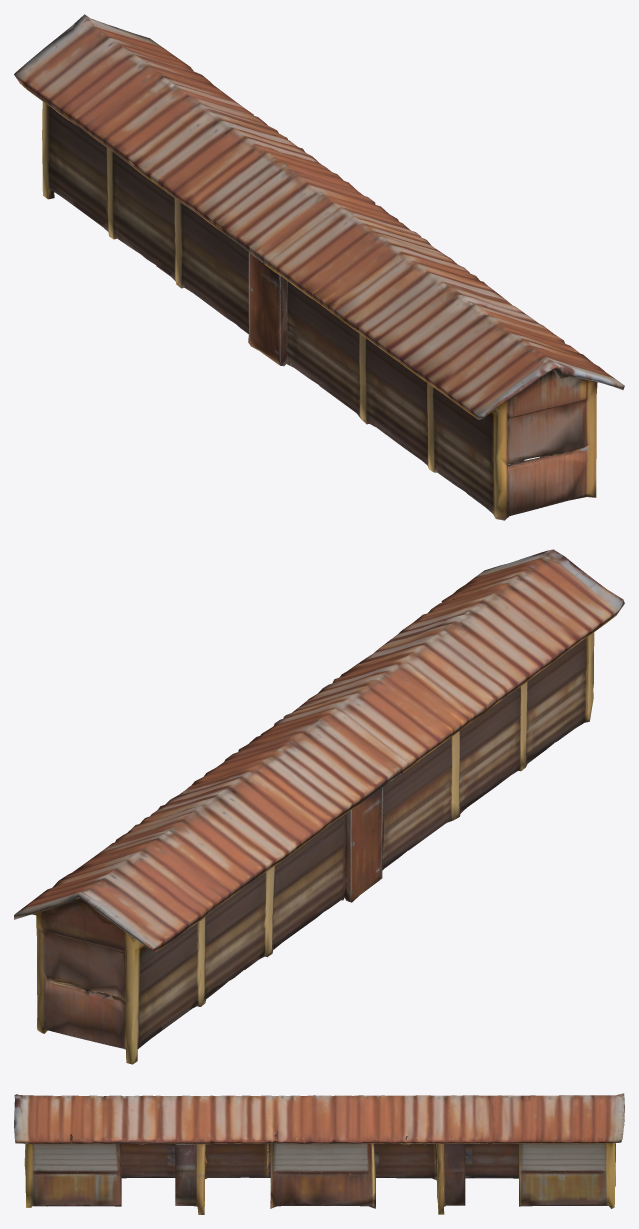
File: sheds_02.glb
3 renders of one model, top to bottom at view 1: azimuth 30°, elevation 25°; view 2: azimuth 150°, elevation 25°; view 3: azimuth 270°, elevation 25°, orthographic. The views are drawn at different scales.
Size of the model in its own units: 0.3429 by 0.3849 by 1.99.
1 material, 1 textured.
